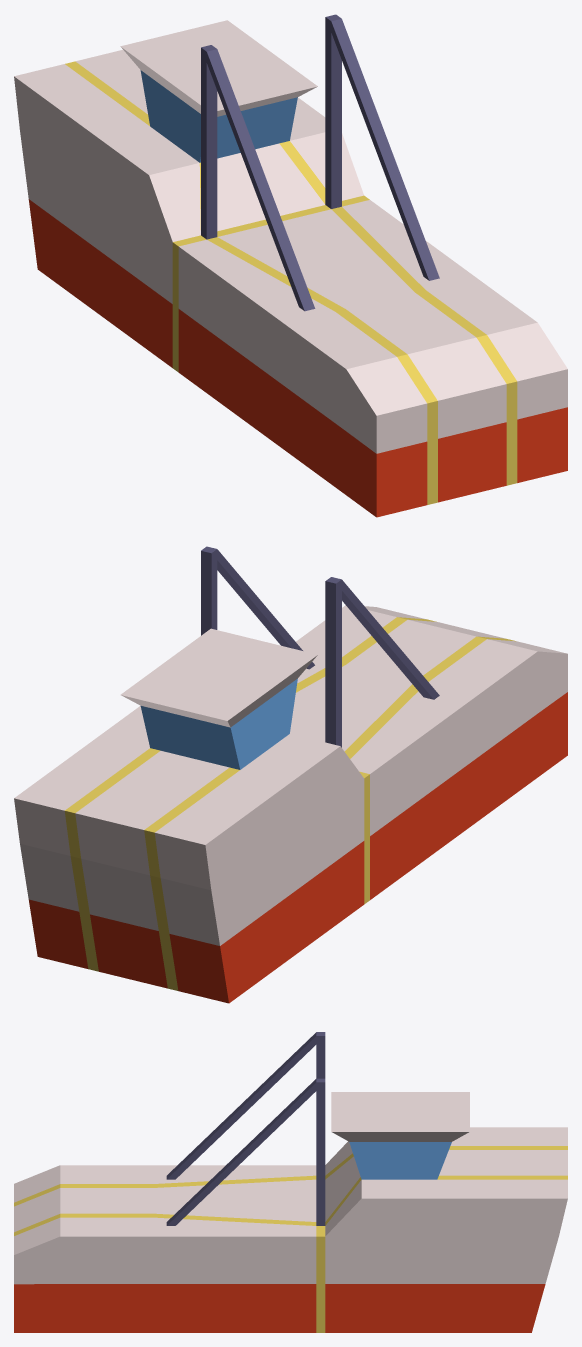
Rendered from boat.fbx.
The picture shows the model from 3 angles, top to bottom: view 1: azimuth 30°, elevation 25°; view 2: azimuth 150°, elevation 25°; view 3: azimuth 270°, elevation 25°; orthographic projection. The views are drawn at different scales.
Visible parts, largest first — view 1: Cube; view 2: Cube; view 3: Cube.
Boxes of the visible parts, x1,y1,x2,y2 form: Cube: [14, 14, 567, 517]; Cube: [14, 546, 567, 1003]; Cube: [14, 1032, 567, 1332].
Bounding box in the file's own units: 318 × 498 × 1042.
